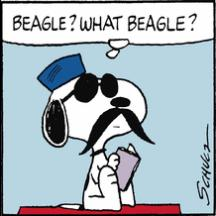snoopy: (35, 53, 155, 212)
